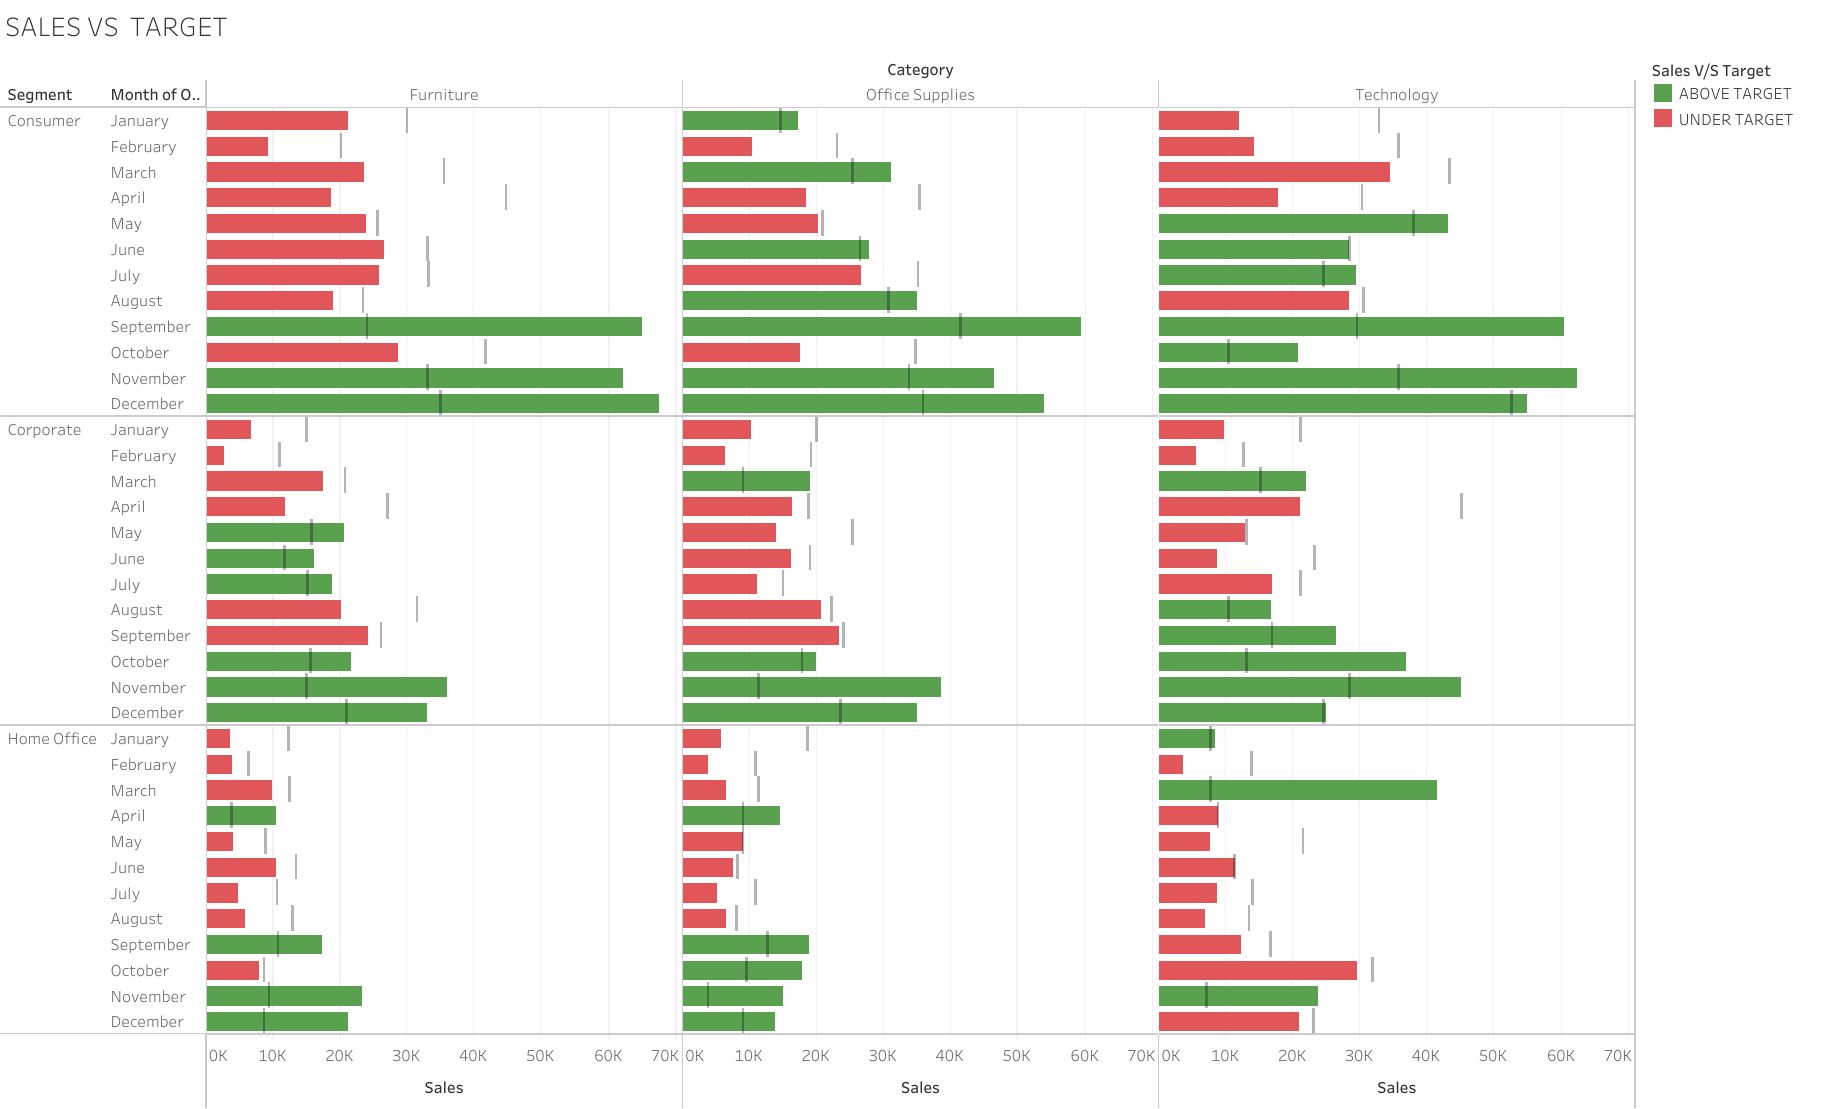

This screenshot's page, from the dashboard's own definition file:
{"tool":"tableau","page":{"name":"Dashboard 1","canvas":[650,860],"ordinal":0},"visuals":[{"type":"worksheet","title":"Project 2 final","mark":"Bar","rows":["Segment","Order Date"],"cols":["Category","Sales"],"box":[8,8.1,474,843.8]},{"type":"filter","title":"Project 2 final","param":"[federated.0olqkwj00uvhsg18ti37s0lckjch].[yr:Order Date:ok]","box":[482,8.1,160,152.4]},{"type":"legend","title":"Project 2 final","param":"[federated.0olqkwj00uvhsg18ti37s0lckjch].[usr:Calculation_971088676148457472:nk]","box":[482,160.5,160,72.7]}]}

Visuals, with their boxes on the page's 650x860 design canvas (x1, y1, x2, y2). These are canvas units, not pixel positions in the 1831x1109 screenshot, which may show the page scaled, cropped or inside an application window:
"Project 2 final" worksheet (Bar marks): region(8, 8, 482, 852)
"Project 2 final" filter: region(482, 8, 642, 160)
"Project 2 final" legend: region(482, 160, 642, 233)
